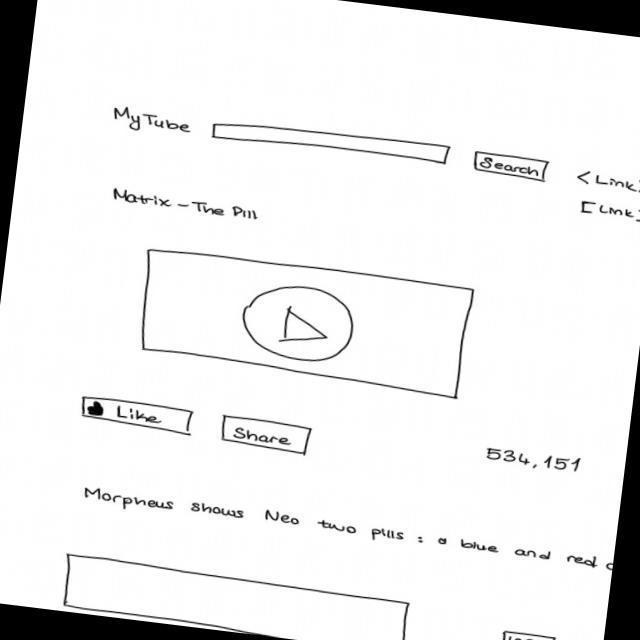button: (79, 395, 197, 438), (219, 413, 315, 458), (470, 150, 551, 184), (498, 628, 559, 640)
input: (209, 116, 453, 170)
label: (80, 484, 616, 574), (109, 185, 263, 226), (482, 444, 585, 478), (107, 104, 196, 141)
link: (572, 168, 640, 195), (577, 199, 640, 225)
textbox: (56, 550, 418, 640)
